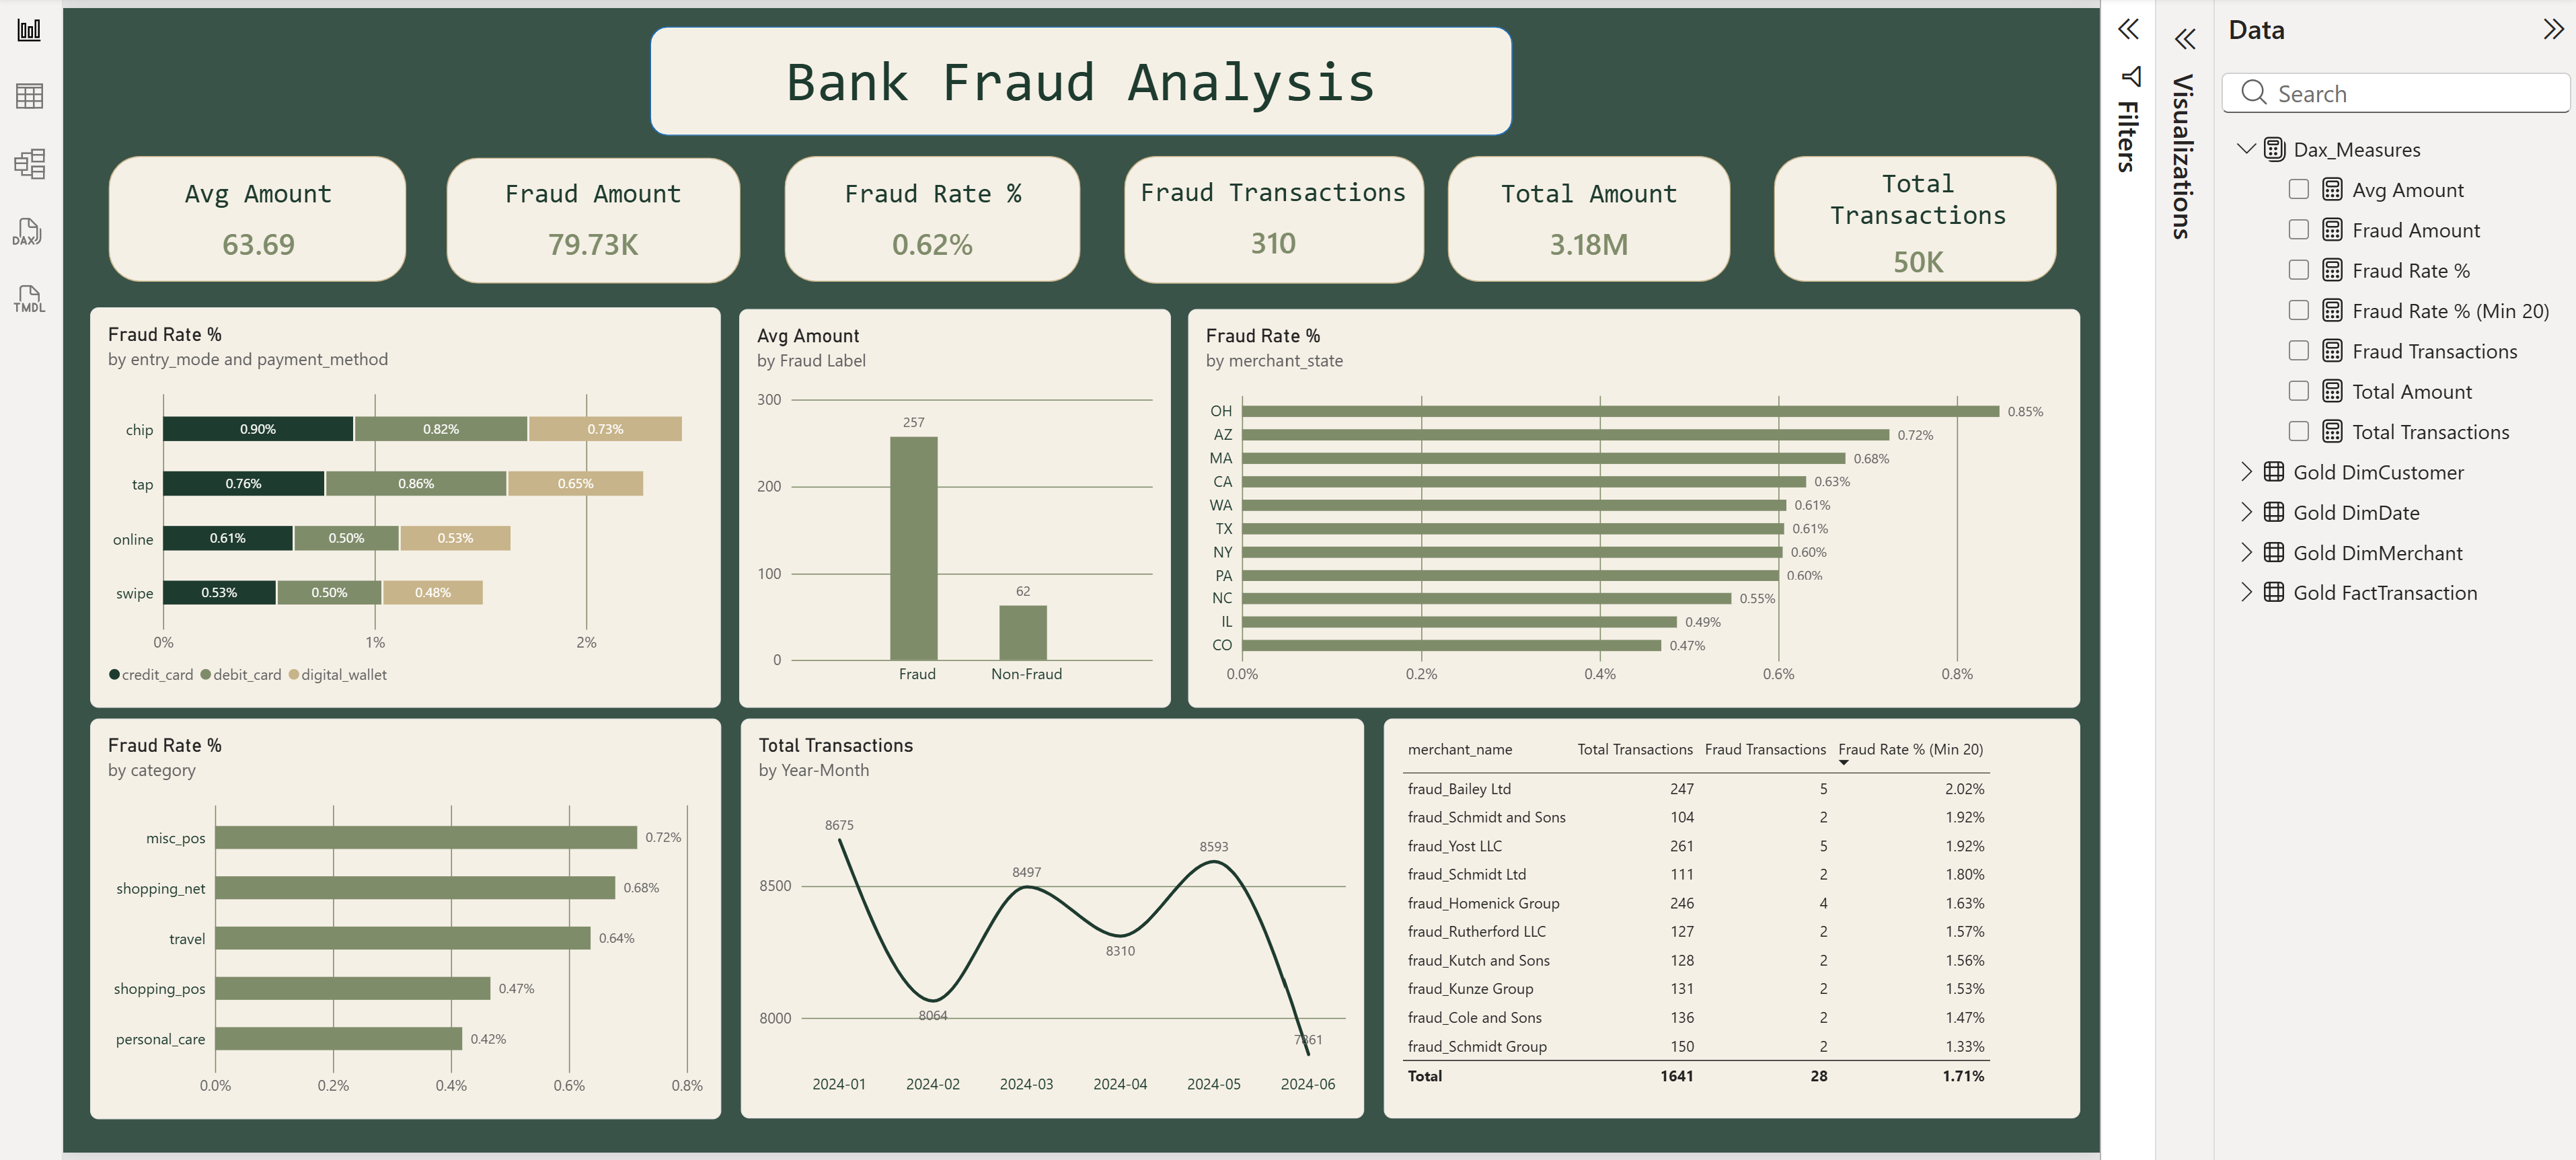

The page's visual inventory and layout, read from the dashboard file:
{"tool":"powerbi","page":{"name":"Page 1","canvas":[1920,1080],"ordinal":0},"visuals":[{"type":"shape","box":[43.6,139.5,280.8,118.6],"z":0},{"type":"shape","box":[361,141.3,277.3,118.6],"z":1000},{"type":"shape","box":[680.2,139.5,279.1,118.6],"z":2000},{"type":"shape","box":[1000.2,138.8,282.6,120.3],"z":3000},{"type":"shape","box":[1304.7,139.5,266.9,118.6],"z":4000},{"type":"cardVisual","title":"Avg Amount","fields":{"Data":["Dax_Measures.Avg Amount"]},"box":[90.7,160.5,188,76],"z":5000},{"type":"cardVisual","title":"Fraud Amount","fields":{"Data":["Dax_Measures.Fraud Amount"]},"box":[406.4,160.5,188,76],"z":6000},{"type":"cardVisual","title":"Fraud Rate %","fields":{"Data":["Dax_Measures.Fraud Rate %"]},"box":[725.6,160.5,188,76],"z":7000},{"type":"cardVisual","title":"Fraud Transactions","fields":{"Data":["Dax_Measures.Fraud Transactions"]},"box":[1009.1,158.4,265.1,78.5],"z":8000},{"type":"cardVisual","title":"Total Amount","fields":{"Data":["Dax_Measures.Total Amount"]},"box":[1344.8,160.5,188,76],"z":9000},{"type":"shape","box":[1613.4,139.5,266.9,118.6],"z":10000},{"type":"cardVisual","title":"Total Transactions","fields":{"Data":["Dax_Measures.Total Transactions"]},"box":[1634.3,150,228.5,99.4],"z":11000},{"type":"barChart","fields":{"Category":["Gold FactTransaction.entry_mode"],"Series":["Gold FactTransaction.payment_method"],"Y":["Dax_Measures.Fraud Rate %"]},"box":[26.2,282.6,594.8,378.5],"z":11001},{"type":"shape","box":[552.9,17.4,812.8,102.9],"z":11002},{"type":"barChart","fields":{"Category":["Gold FactTransaction.category"],"Y":["Dax_Measures.Fraud Rate %"]},"box":[26,671,595,378],"z":11003},{"type":"clusteredColumnChart","fields":{"Category":["Gold FactTransaction.Fraud Label"],"Y":["Dax_Measures.Avg Amount"]},"box":[638.9,283,501.9,377.3],"z":11004},{"type":"clusteredBarChart","fields":{"Category":["Gold DimMerchant.merchant_state"],"Y":["Dax_Measures.Fraud Rate %"]},"box":[1160.4,283,740.4,377.3],"z":11005},{"type":"lineChart","fields":{"Category":["Gold DimDate.Year-Month"],"Y":["Dax_Measures.Total Transactions"]},"box":[638.9,671,587.3,377.3],"z":11006},{"type":"tableEx","fields":{"Values":["Gold DimMerchant.merchant_name","Dax_Measures.Total Transactions","Dax_Measures.Fraud Transactions","Dax_Measures.Fraud Rate % (Min 20)"]},"box":[1244.1,671,656.7,377.3],"z":11007}]}

Visuals, with their boxes in screenshot pixels (x1, y1, x2, y2):
shape: x1=106 y1=148 x2=404 y2=274
shape: x1=443 y1=150 x2=736 y2=275
shape: x1=781 y1=148 x2=1077 y2=274
shape: x1=1121 y1=147 x2=1420 y2=274
shape: x1=1443 y1=148 x2=1726 y2=274
"Avg Amount" cardVisual: x1=157 y1=170 x2=356 y2=251
"Fraud Amount" cardVisual: x1=491 y1=170 x2=690 y2=251
"Fraud Rate %" cardVisual: x1=829 y1=170 x2=1028 y2=251
"Fraud Transactions" cardVisual: x1=1130 y1=168 x2=1410 y2=251
"Total Amount" cardVisual: x1=1486 y1=170 x2=1685 y2=251
shape: x1=1770 y1=148 x2=2053 y2=274
"Total Transactions" cardVisual: x1=1792 y1=159 x2=2035 y2=264
barChart - Gold FactTransaction.entry_mode x Gold FactTransaction.payment_method: x1=88 y1=299 x2=718 y2=701
shape: x1=646 y1=18 x2=1508 y2=128
barChart - Gold FactTransaction.category x Dax_Measures.Fraud Rate %: x1=88 y1=711 x2=718 y2=1112
clusteredColumnChart - Gold FactTransaction.Fraud Label x Dax_Measures.Avg Amount: x1=737 y1=300 x2=1269 y2=699
clusteredBarChart - Gold DimMerchant.merchant_state x Dax_Measures.Fraud Rate %: x1=1290 y1=300 x2=2075 y2=699
lineChart - Gold DimDate.Year-Month x Dax_Measures.Total Transactions: x1=737 y1=711 x2=1360 y2=1111
tableEx - Gold DimMerchant.merchant_name x Dax_Measures.Total Transactions: x1=1379 y1=711 x2=2075 y2=1111
